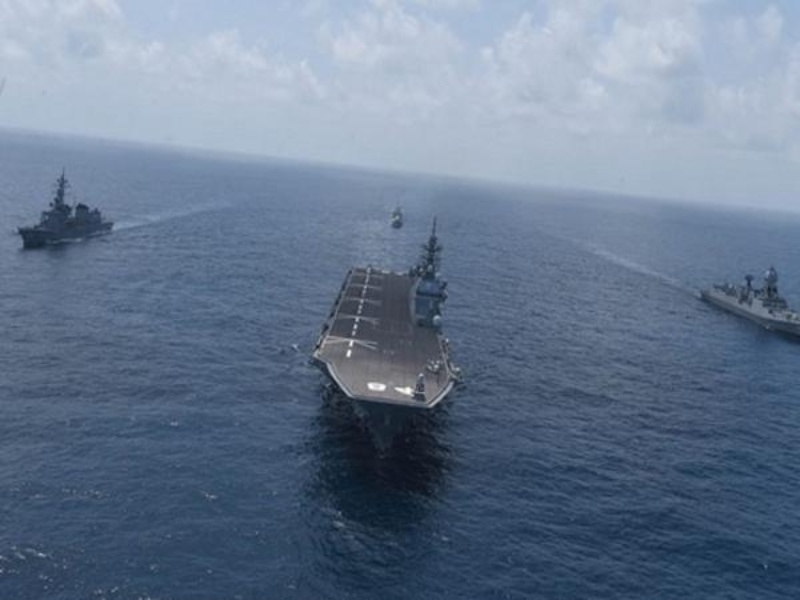carrier: (316, 240, 471, 450)
cruise: (19, 169, 116, 253), (707, 251, 795, 333), (384, 197, 411, 232)
